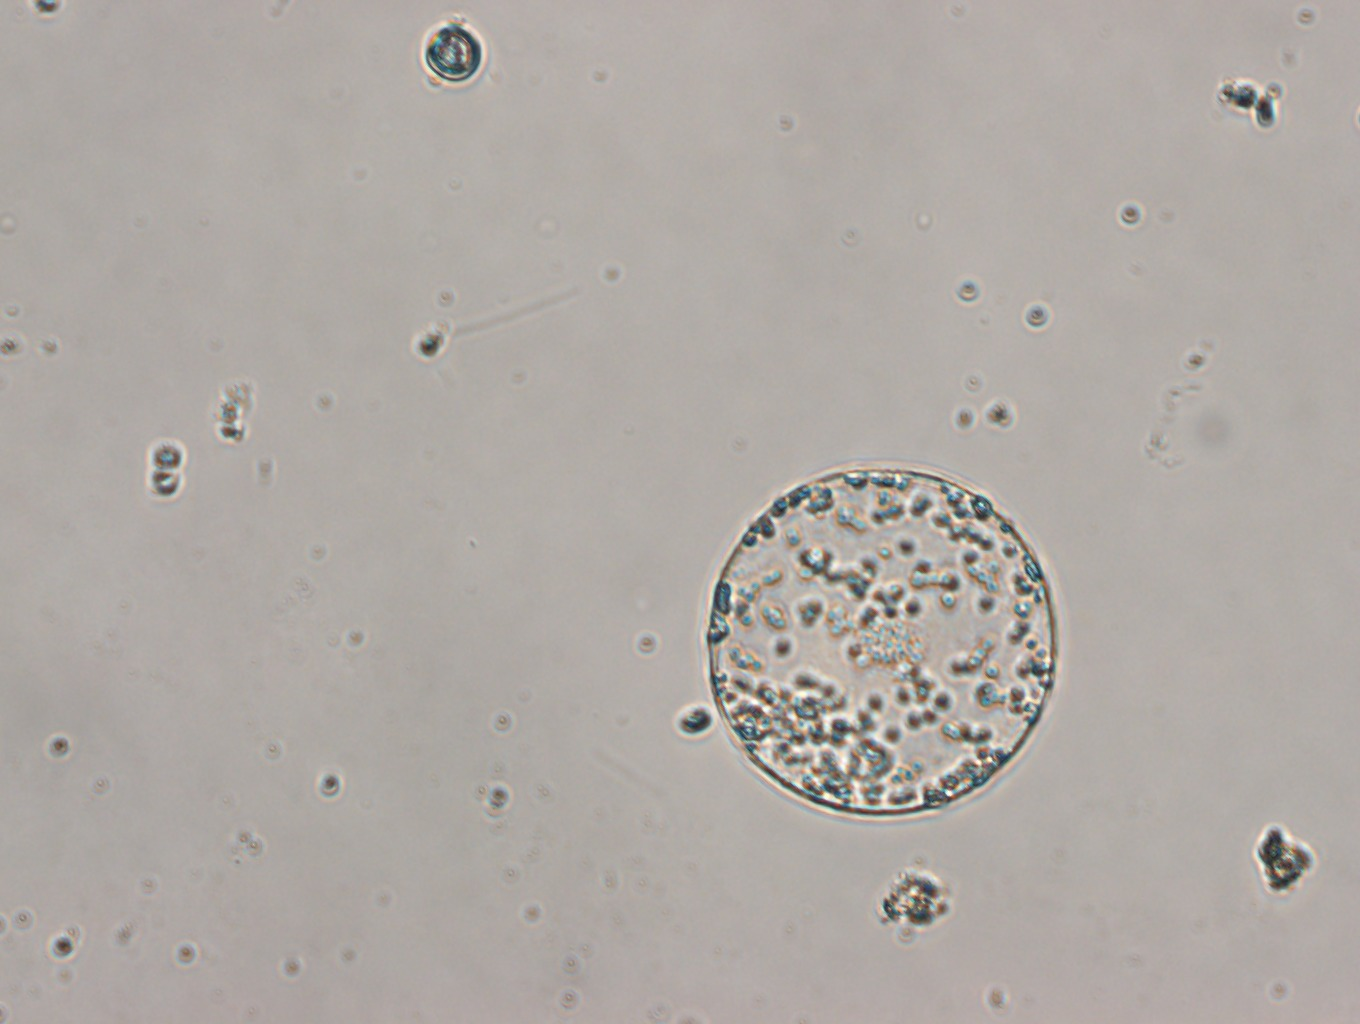coscinodiscus: (706, 468, 1059, 820)
